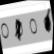no answer: (0, 21, 10, 40), (28, 16, 38, 35)
not correct: (10, 15, 25, 42)
